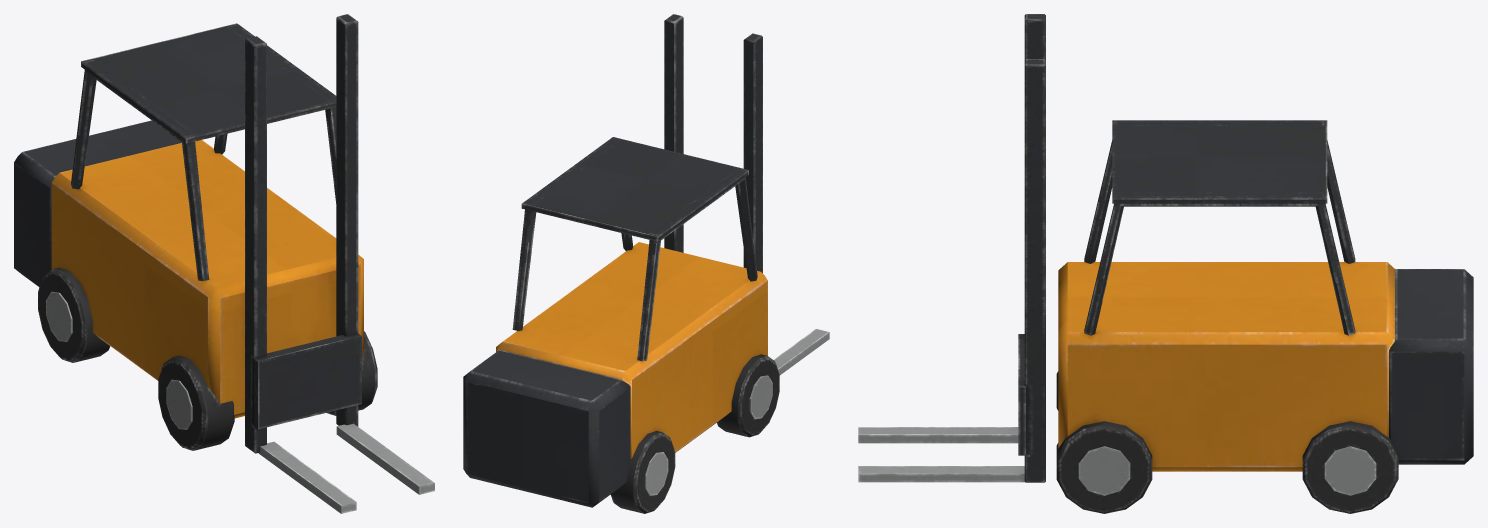
The model's file is forklift.glb.
The picture shows the model from 3 angles, left to right: view 1: azimuth 30°, elevation 25°; view 2: azimuth 150°, elevation 25°; view 3: azimuth 270°, elevation 25°; orthographic projection. The views are drawn at different scales.
Parts seen in each view (by area): view 1: forklift; view 2: forklift; view 3: forklift.
Part boxes in pixels (box(x1,y1,x2,y2)): forklift: box(14, 14, 434, 513); forklift: box(463, 14, 829, 513); forklift: box(858, 14, 1473, 513).
Size of the model in its own units: 1.37 by 3.1 by 4.
1 material, 1 textured.
